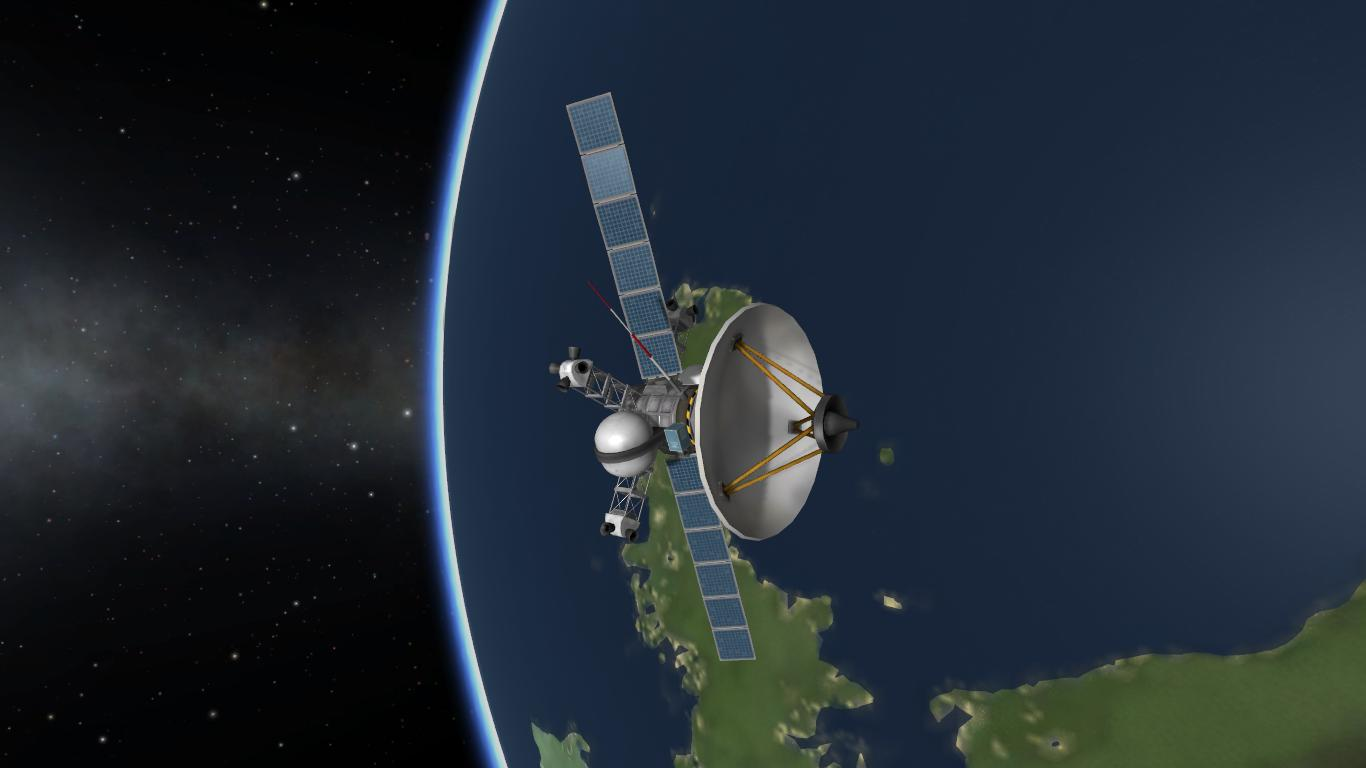antenna: (690, 300, 864, 543), (583, 276, 686, 399)
body: (612, 379, 713, 455)
solar: (565, 88, 686, 382), (663, 454, 758, 663)
thruster: (553, 374, 572, 394), (566, 344, 584, 361), (573, 359, 591, 376), (623, 527, 641, 544), (598, 520, 616, 536), (546, 360, 563, 376), (684, 303, 702, 318), (664, 297, 680, 313)
